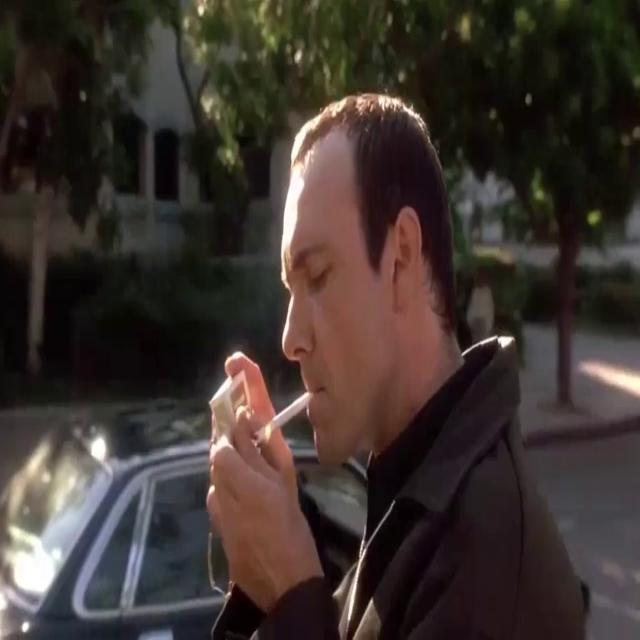Smooking: (255, 381, 313, 454)
